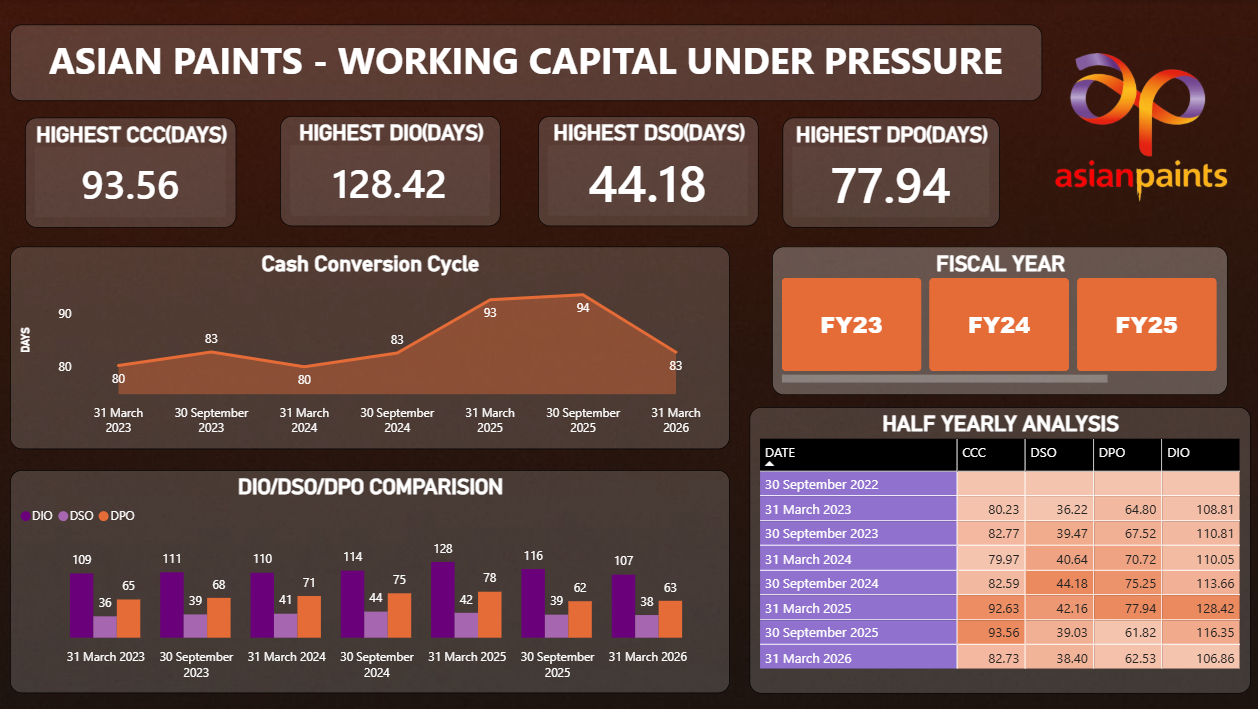

What the dashboard file says about the page in this screenshot:
{"tool":"powerbi","page":{"name":"Page 1","canvas":[1280,720],"ordinal":0},"visuals":[{"type":"cardVisual","title":"HIGHEST DSO(DAYS)","fields":{"Data":["Max(Query1.dso)"]},"box":[551.2,118.1,223,111.5],"z":0},{"type":"cardVisual","title":"HIGHEST DPO(DAYS)","fields":{"Data":["Max(Query1.dpo)"]},"box":[798,119.6,219.2,111.5],"z":1000},{"type":"cardVisual","title":"HIGHEST DIO(DAYS)","fields":{"Data":["Max(Query1.dio)"]},"box":[290.7,118.1,223,111.5],"z":2000},{"type":"cardVisual","title":"HIGHEST CCC(DAYS)","fields":{"Data":["Max(Query1.ccc)"]},"box":[33.3,119.6,213.5,111.5],"z":3000},{"type":"textbox","box":[18.2,25.7,1041.8,77.2],"z":4000},{"type":"image","box":[1050.9,54.5,219,150],"z":5000},{"type":"areaChart","title":"Cash Conversion Cycle","fields":{"Y":["Sum(Query1.ccc)"],"Category":["Query1.balance_sheet_date"]},"box":[18.2,249.8,726.8,204.4],"z":6000},{"type":"clusteredColumnChart","title":"DIO/DSO/DPO COMPARISION","fields":{"Category":["Query1.balance_sheet_date"],"Y":["Sum(Query1.dio)","Sum(Query1.dso)","Sum(Query1.dpo)"]},"box":[18.2,475.5,726.8,225.6],"z":7000},{"type":"tableEx","title":"HALF YEARLY ANALYSIS","fields":{"Values":["Query1.balance_sheet_date","Query1.ccc","Query1.dso","Query1.dpo","Query1.dio"]},"box":[764.7,411.9,505.7,289.2],"z":8000},{"type":"advancedSlicerVisual","title":"FISCAL YEAR","fields":{"Values":["Query1.fiscal_year"]},"box":[787.4,249.8,460.3,149.9],"z":9000}]}

Visuals, with their boxes in screenshot pixels (x1, y1, x2, y2), scaled from the page's 1280x720 canvas onto the 1258x709 screenshot:
"HIGHEST DSO(DAYS)" cardVisual: [542, 116, 761, 226]
"HIGHEST DPO(DAYS)" cardVisual: [784, 118, 1000, 228]
"HIGHEST DIO(DAYS)" cardVisual: [286, 116, 505, 226]
"HIGHEST CCC(DAYS)" cardVisual: [33, 118, 243, 228]
textbox: [18, 25, 1042, 101]
image: [1033, 54, 1248, 201]
"Cash Conversion Cycle" areaChart: [18, 246, 732, 447]
"DIO/DSO/DPO COMPARISION" clusteredColumnChart: [18, 468, 732, 690]
"HALF YEARLY ANALYSIS" tableEx: [752, 406, 1249, 690]
"FISCAL YEAR" advancedSlicerVisual: [774, 246, 1226, 394]
